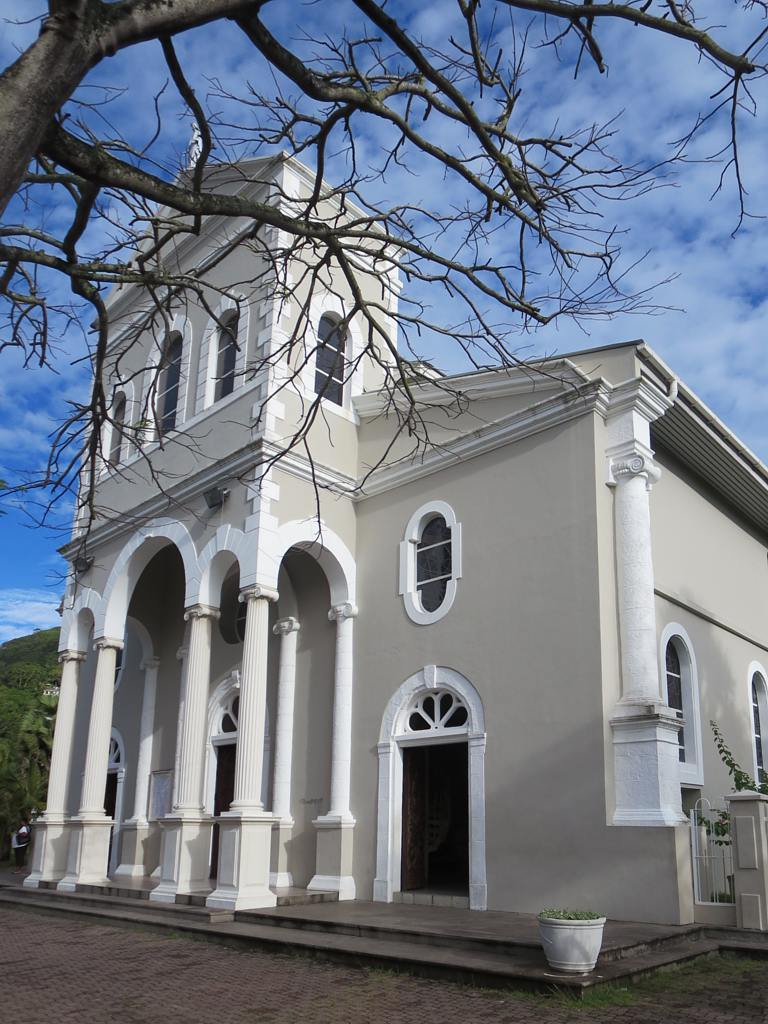Tree: (0, 3, 767, 1024)
